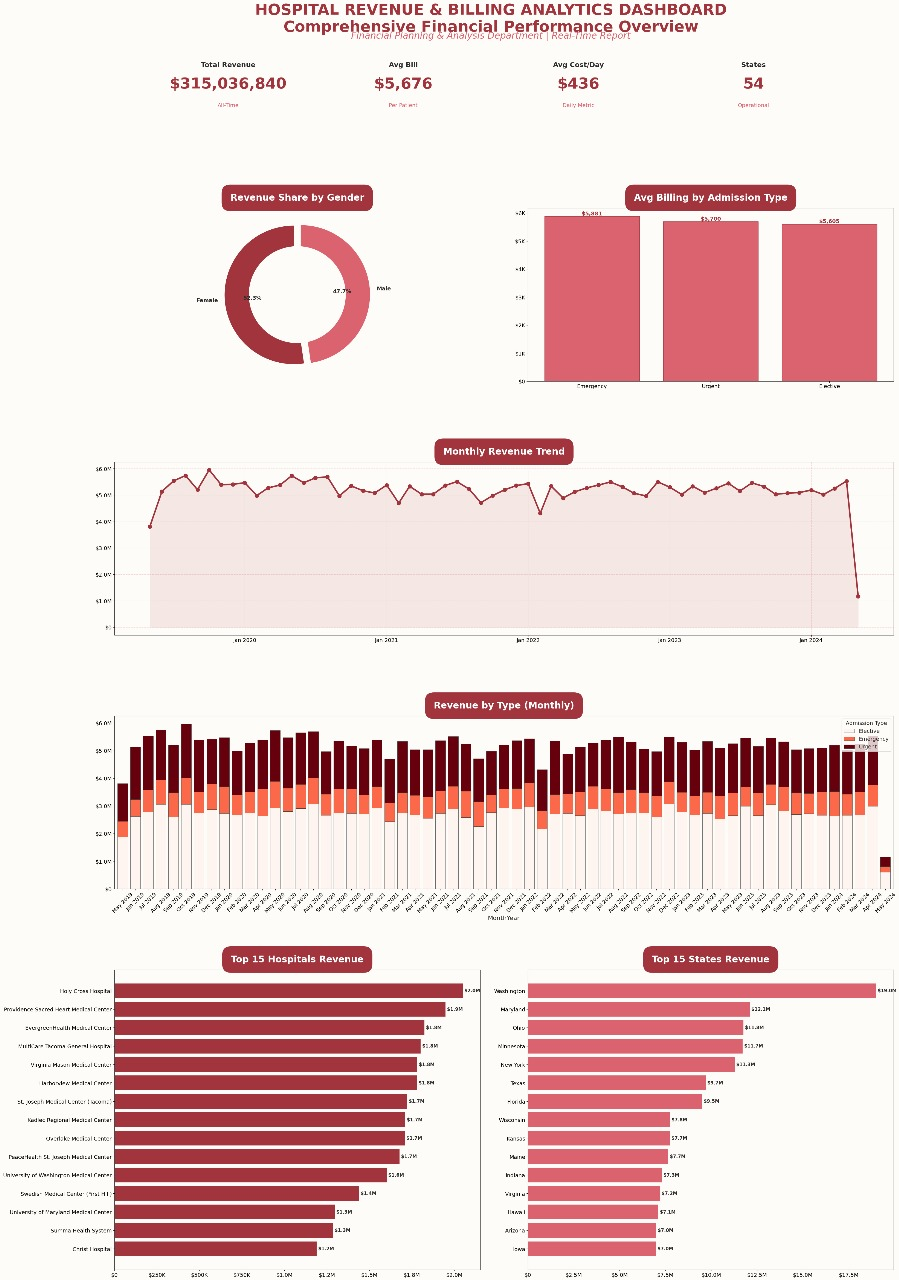

The dashboard page shown, as its layout file describes it:
{"tool":"powerbi","page":{"name":"Duplicate of Financial analysis","canvas":[1280,720],"ordinal":1},"visuals":[{"type":"shape","box":[918.2,402.7,361.8,305.4],"z":0},{"type":"shape","box":[0,0,1280.2,169.8],"z":1000,"group":"g1"},{"type":"shape","box":[0,202.3,205.2,198.4],"z":1000},{"type":"shape","box":[3.8,401.7,210.2,111.4],"z":1000,"group":"g5"},{"type":"shape","box":[1048.9,14.1,211.3,193.4],"z":2000,"group":"g1"},{"type":"pieChart","title":"Billing Amount by Gendar","fields":{"Category":["الجدول2_3.Sex"],"Y":["Sum(الجدول2_3.Billing Amount)"]},"box":[9.7,213,183.8,176],"z":2000},{"type":"shape","box":[2.9,603.5,210,104.6],"z":2000,"group":"g5"},{"type":"shape","box":[9.4,10.4,211.3,193.4],"z":3000,"group":"g1"},{"type":"shape","box":[0,505.8,212,98.2],"z":3000},{"type":"group","id":"g1","title":"Group 1","box":[0,0,1280.2,207.5],"z":4000},{"type":"slicer","fields":{"Values":["الجدول2_3.Sex"]},"box":[25.9,26.7,178.5,83.7],"z":5000,"group":"g1"},{"type":"shape","box":[210.1,194.5,313.2,135.2],"z":5000,"group":"g4"},{"type":"shape","box":[522.7,195.5,394.5,134.2],"z":5000},{"type":"cardVisual","fields":{"Data":["الجدول2_3.AVG COST OF PATIENT"]},"box":[25.4,408,171.6,72.5],"z":5000,"group":"g5"},{"type":"textbox","box":[302.3,0,440.7,97.7],"z":6000,"group":"g1"},{"type":"group","id":"g2","title":"Group 3","box":[564,328,354,380.3],"z":6000},{"type":"cardVisual","fields":{"Data":["الجدول2_3.NUM.STATES"]},"box":[55.5,603.3,100.2,74.7],"z":6000,"group":"g5"},{"type":"shape","box":[794.3,14.3,235.7,30],"z":7000,"group":"g1"},{"type":"group","id":"g3","title":"Group 4","box":[210.1,324.9,353.1,383.2],"z":7000},{"type":"shape","box":[794.3,87.1,235.7,30],"z":8000,"group":"g1"},{"type":"cardVisual","fields":{"Data":["الجدول2_3.AVG BILLING"]},"box":[526.8,242.8,164.8,63.4],"z":8000},{"type":"cardVisual","fields":{"Data":["الجدول2_3.TOTAL BIKLLING"]},"box":[12.5,502.9,192.3,75],"z":8000,"group":"g5"},{"type":"shape","box":[794.3,50,235.7,31.4],"z":9000,"group":"g1"},{"type":"group","id":"g4","title":"Group 7","box":[210.1,194.5,313.2,135.2],"z":9000},{"type":"textbox","box":[17.8,654.1,178.5,43.6],"z":9000,"group":"g5"},{"type":"textbox","box":[820,14.3,178.6,35.7],"z":10000,"group":"g1"},{"type":"shape","box":[917.2,207.2,361.8,193.6],"z":10000},{"type":"textbox","box":[32.7,562.8,148.8,40.5],"z":10000,"group":"g5"},{"type":"textbox","box":[805.7,87.1,224.3,41.4],"z":11000,"group":"g1"},{"type":"areaChart","fields":{"Y":["الجدول2_3.AVG COST OF PATIENT"],"Category":["الجدول2_3.State"]},"box":[931.4,218.4,334.2,171.3],"z":11000},{"type":"shape","box":[564,328,354,380.3],"z":11000,"group":"g2"},{"type":"textbox","box":[19.8,467.3,177.5,35.3],"z":11000,"group":"g5"},{"type":"textbox","box":[814.2,50,215.6,37.1],"z":12000,"group":"g1"},{"type":"shape","box":[210.1,324.9,353.1,383.2],"z":12000,"group":"g3"},{"type":"areaChart","title":"Billing Amount by Month & Admission Type","fields":{"Category":["الجدول2_3.Date of Admission.Variation.Date Hierarchy.Month"],"Y":["Sum(الجدول2_3.Billing Amount)"],"Series":["الجدول2_3.Admission Type"]},"box":[931.8,417.3,334.6,276.2],"z":12000},{"type":"slicer","fields":{"Values":["الجدول2_3.AgeCategory"]},"box":[1061.2,27.5,186.2,142.5],"z":13000,"group":"g1"},{"type":"lineChart","title":"AVG Billing  by Length of Stay","fields":{"Y":["الجدول2_3.AVG BILLING"],"Category":["الجدول2_3.Date of Admission.Variation.Date Hierarchy.Year"]},"box":[657.5,202.3,240.2,116.7],"z":13000},{"type":"textbox","box":[517.4,210.6,168.6,36.1],"z":14000},{"type":"lineChart","title":"AVG Billing by Admission Type","fields":{"Category":["الجدول2_3.Admission Type"],"Y":["الجدول2_3.AVG BILLING"]},"box":[223.7,208.1,283,110.9],"z":15000},{"type":"group","id":"g5","title":"Group 2","box":[2.9,401.7,211.1,306.4],"z":16000},{"type":"image","box":[220.8,13.8,102.6,88],"z":17000},{"type":"image","box":[48.3,53.5,70.7,38],"z":18000},{"type":"image","box":[110.4,55.2,73.3,36.2],"z":19000},{"type":"clusteredBarChart","fields":{"Category":["الجدول2_3.Hospital"],"Y":["Sum(الجدول2_3.Billing Amount)"]},"box":[215.8,338.9,332.6,360.4],"z":19000,"group":"g3"},{"type":"slicer","fields":{"Values":["الجدول2_3.State"]},"box":[22.6,111.3,186.8,72.6],"z":20000,"group":"g1"},{"type":"clusteredBarChart","fields":{"Category":["الجدول2_3.State"],"Y":["Sum(الجدول2_3.Billing Amount)"]},"box":[570.9,338.7,331.7,359.9],"z":20000,"group":"g2"},{"type":"shape","box":[267.9,86.8,510.3,114.1],"z":22000,"group":"g1"},{"type":"slicer","fields":{"Values":["الجدول2_3.Date of Admission"]},"box":[290,97.5,473.8,97.5],"z":24000,"group":"g1"}]}

Visuals, with their boxes on the page's 1280x720 design canvas (x1, y1, x2, y2). These are canvas units, not pixel positions in the 899x1280 screenshot, which may show the page scaled, cropped or inside an application window:
shape: detection(918, 403, 1280, 708)
shape: detection(0, 0, 1280, 170)
shape: detection(0, 202, 205, 401)
shape: detection(4, 402, 214, 513)
shape: detection(1049, 14, 1260, 208)
"Billing Amount by Gendar" pieChart: detection(10, 213, 194, 389)
shape: detection(3, 604, 213, 708)
shape: detection(9, 10, 221, 204)
shape: detection(0, 506, 212, 604)
"Group 1" group: detection(0, 0, 1280, 208)
slicer - الجدول2_3.Sex: detection(26, 27, 204, 110)
shape: detection(210, 194, 523, 330)
shape: detection(523, 196, 917, 330)
cardVisual - الجدول2_3.AVG COST OF PATIENT: detection(25, 408, 197, 480)
textbox: detection(302, 0, 743, 98)
"Group 3" group: detection(564, 328, 918, 708)
cardVisual - الجدول2_3.NUM.STATES: detection(56, 603, 156, 678)
shape: detection(794, 14, 1030, 44)
"Group 4" group: detection(210, 325, 563, 708)
shape: detection(794, 87, 1030, 117)
cardVisual - الجدول2_3.AVG BILLING: detection(527, 243, 692, 306)
cardVisual - الجدول2_3.TOTAL BIKLLING: detection(12, 503, 205, 578)
shape: detection(794, 50, 1030, 81)
"Group 7" group: detection(210, 194, 523, 330)
textbox: detection(18, 654, 196, 698)
textbox: detection(820, 14, 999, 50)
shape: detection(917, 207, 1279, 401)
textbox: detection(33, 563, 182, 603)
textbox: detection(806, 87, 1030, 128)
areaChart - الجدول2_3.AVG COST OF PATIENT x الجدول2_3.State: detection(931, 218, 1266, 390)
shape: detection(564, 328, 918, 708)
textbox: detection(20, 467, 197, 503)
textbox: detection(814, 50, 1030, 87)
shape: detection(210, 325, 563, 708)
"Billing Amount by Month & Admission Type" areaChart: detection(932, 417, 1266, 694)
slicer - الجدول2_3.AgeCategory: detection(1061, 28, 1247, 170)
"AVG Billing  by Length of Stay" lineChart: detection(658, 202, 898, 319)
textbox: detection(517, 211, 686, 247)
"AVG Billing by Admission Type" lineChart: detection(224, 208, 507, 319)
"Group 2" group: detection(3, 402, 214, 708)
image: detection(221, 14, 323, 102)
image: detection(48, 54, 119, 92)
image: detection(110, 55, 184, 91)
clusteredBarChart - الجدول2_3.Hospital x Sum(الجدول2_3.Billing Amount): detection(216, 339, 548, 699)
slicer - الجدول2_3.State: detection(23, 111, 209, 184)
clusteredBarChart - الجدول2_3.State x Sum(الجدول2_3.Billing Amount): detection(571, 339, 903, 699)
shape: detection(268, 87, 778, 201)
slicer - الجدول2_3.Date of Admission: detection(290, 98, 764, 195)
